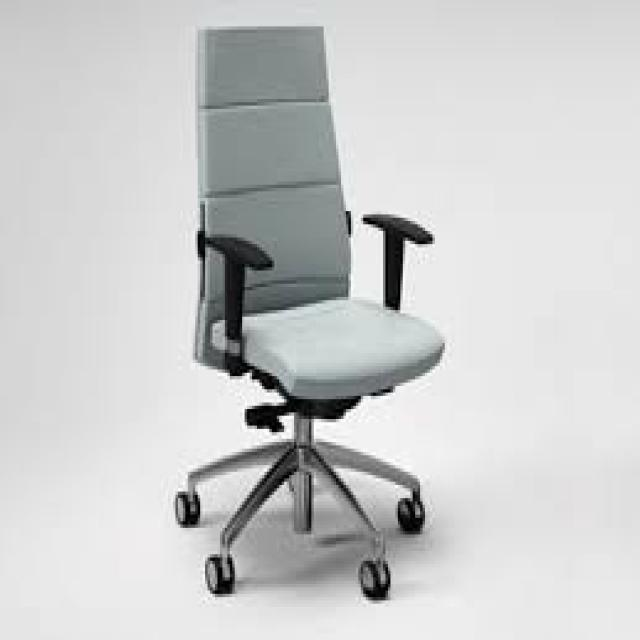chair: (82, 10, 460, 639)
